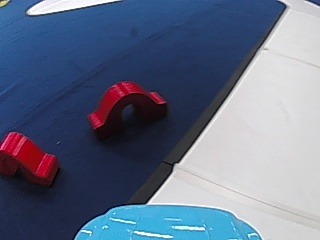bridge: (84, 75, 169, 139), (1, 129, 61, 187)
